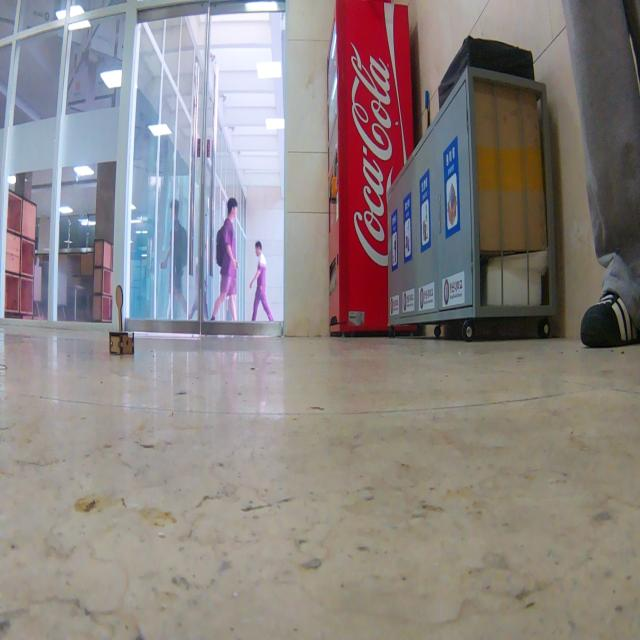target: (109, 284, 135, 355)
